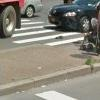Crosswalk: (21, 19, 78, 57)
